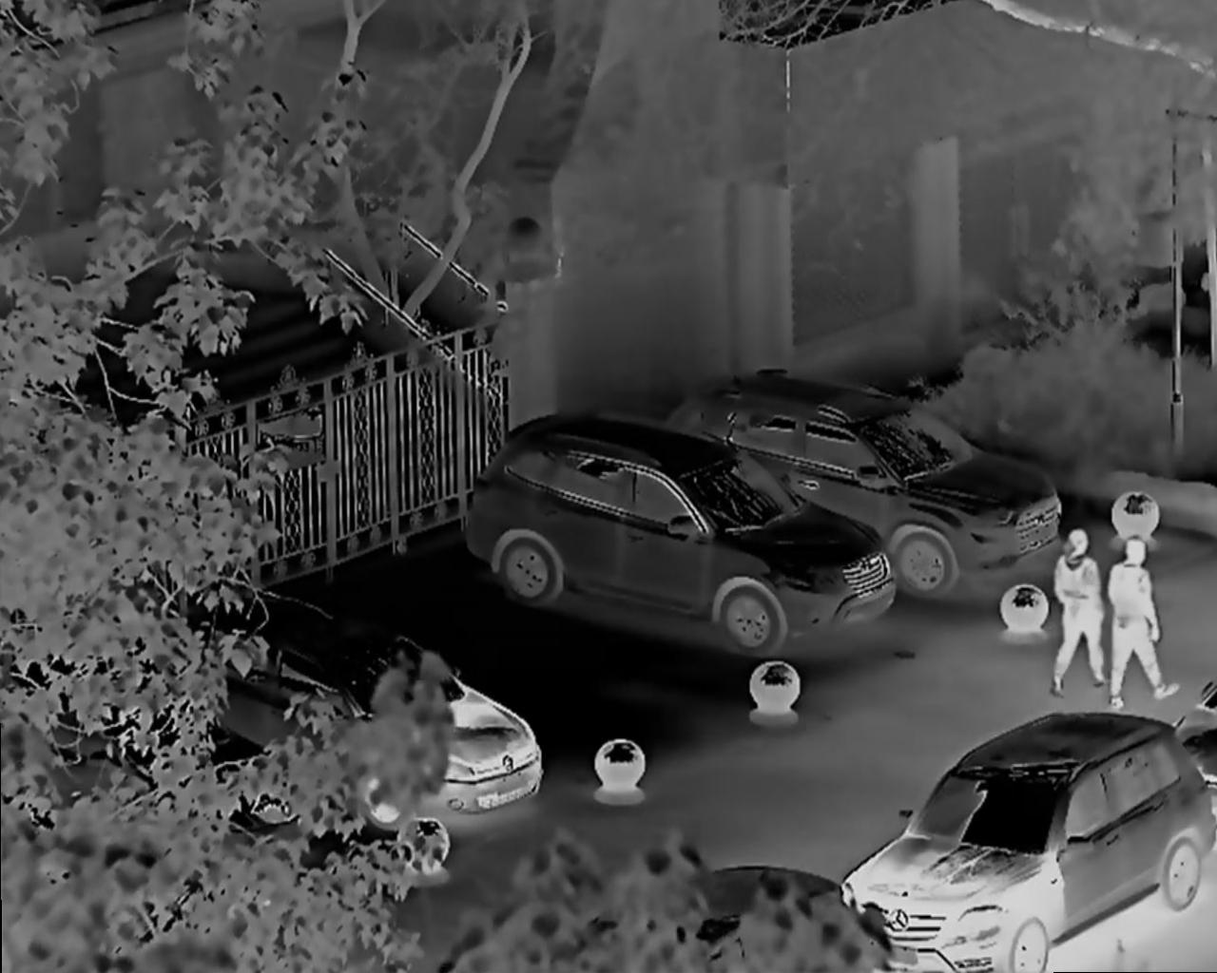person: (1101, 535, 1187, 709), (1052, 525, 1110, 710)
